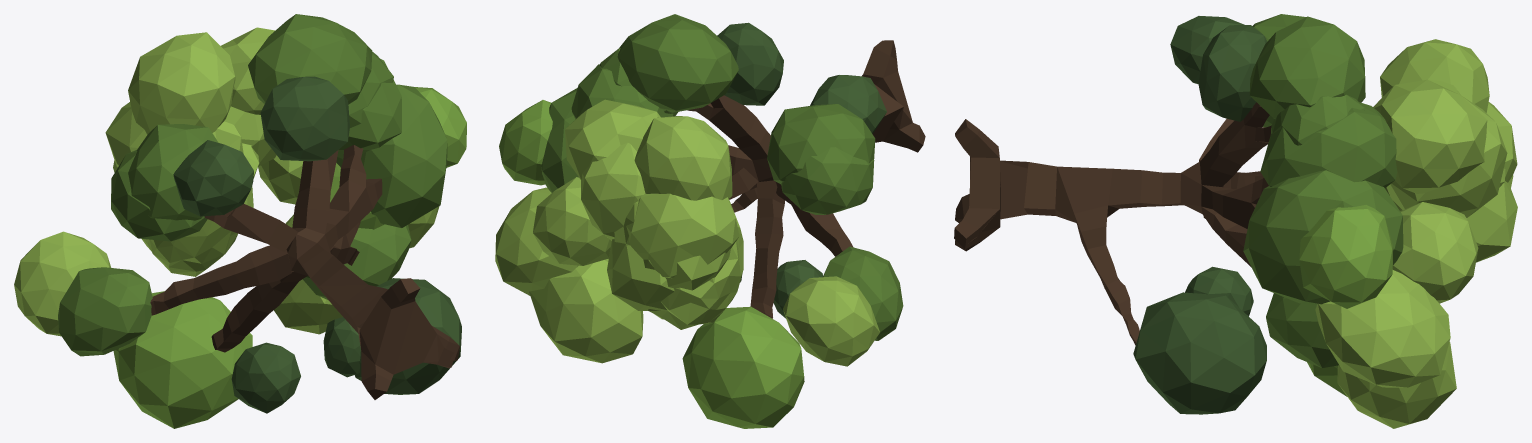
Rendered from TreeOakGreenB2.fbx.
3 views of the same model, side by side, from view 1: azimuth 30°, elevation 25°; view 2: azimuth 150°, elevation 25°; view 3: azimuth 270°, elevation 25° (orthographic). The views are drawn at different scales.
Parts seen in each view (by area): view 1: M_Tree_Leaf_Mid.001, M_Tree_Leaf_Pale.001, M_Tree_Bark.001, M_Tree_Leaf_Dark.001, M_Tree_Leaf_Light.001; view 2: M_Tree_Leaf_Pale.001, M_Tree_Leaf_Mid.001, M_Tree_Leaf_Light.001, M_Tree_Bark.001, M_Tree_Leaf_Dark.001; view 3: M_Tree_Leaf_Pale.001, M_Tree_Leaf_Mid.001, M_Tree_Bark.001, M_Tree_Leaf_Dark.001, M_Tree_Leaf_Light.001.
Boxes of the visible parts, x1=… form: M_Tree_Leaf_Mid.001: x1=58, y1=14, x2=447, y2=356; M_Tree_Leaf_Pale.001: x1=14, y1=27, x2=439, y2=336; M_Tree_Bark.001: x1=150, y1=145, x2=459, y2=399; M_Tree_Leaf_Dark.001: x1=173, y1=76, x2=461, y2=413; M_Tree_Leaf_Light.001: x1=113, y1=87, x2=466, y2=428; M_Tree_Leaf_Pale.001: x1=495, y1=99, x2=879, y2=366; M_Tree_Leaf_Mid.001: x1=541, y1=14, x2=903, y2=340; M_Tree_Leaf_Light.001: x1=499, y1=100, x2=804, y2=428; M_Tree_Bark.001: x1=687, y1=40, x2=925, y2=318; M_Tree_Leaf_Dark.001: x1=717, y1=22, x2=886, y2=318; M_Tree_Leaf_Pale.001: x1=1315, y1=39, x2=1517, y2=428; M_Tree_Leaf_Mid.001: x1=1243, y1=14, x2=1403, y2=368; M_Tree_Bark.001: x1=954, y1=102, x2=1271, y2=345; M_Tree_Leaf_Dark.001: x1=1133, y1=16, x2=1267, y2=414; M_Tree_Leaf_Light.001: x1=1299, y1=205, x2=1392, y2=396.
Bounding box in the file's own units: 2893 × 2609 × 3170.
